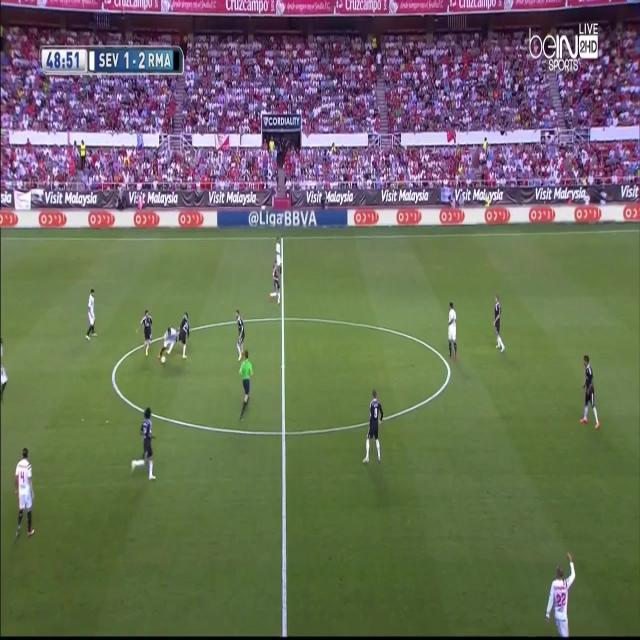Ball: (160, 353, 167, 365)
Player: (542, 545, 582, 638), (12, 443, 37, 542), (128, 407, 159, 485), (578, 352, 603, 435), (360, 391, 385, 468), (444, 300, 458, 364), (136, 307, 153, 358), (492, 295, 506, 354), (157, 324, 178, 362), (84, 287, 98, 342), (178, 313, 192, 361), (268, 263, 281, 308), (234, 310, 246, 358), (273, 234, 281, 264)
Referee: (236, 350, 254, 426)
